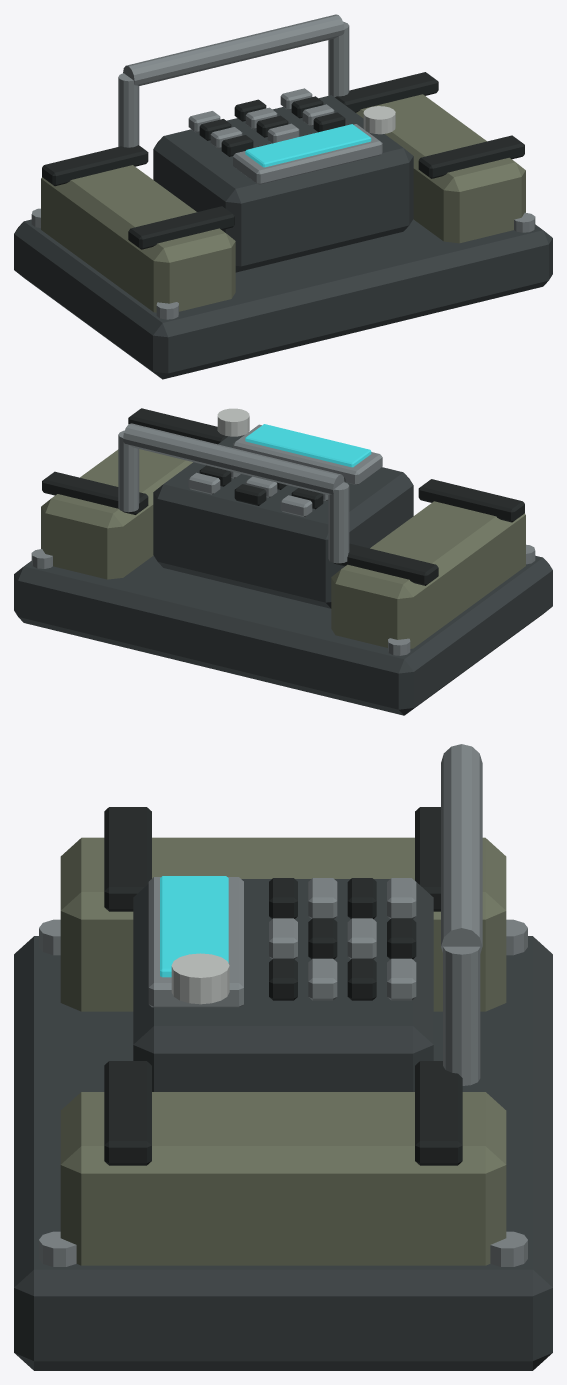
The model's file is c4_device.glb.
3 views of the same model, one above another, from view 1: azimuth 30°, elevation 25°; view 2: azimuth 150°, elevation 25°; view 3: azimuth 270°, elevation 25° (orthographic). The views are drawn at different scales.
Parts seen in each view (by area): view 1: GEO-c4-base-chassis, GEO-c4-control-deck, GEO-c4-charge-L, GEO-c4-charge-R, GEO-c4-handle-bar, GEO-c4-display-bezel, GEO-c4-display, GEO-c4-charge-strap-L-A, GEO-c4-charge-strap-R-A, GEO-c4-charge-strap-L-B, GEO-c4-charge-strap-R-B, GEO-c4-handle-post-L (+5 smaller); view 2: GEO-c4-base-chassis, GEO-c4-control-deck, GEO-c4-charge-L, GEO-c4-charge-R, GEO-c4-handle-bar, GEO-c4-display, GEO-c4-charge-strap-L-A, GEO-c4-charge-strap-L-B, GEO-c4-display-bezel, GEO-c4-charge-strap-R-B, GEO-c4-handle-post-L, GEO-c4-charge-strap-R-A (+5 smaller); view 3: GEO-c4-base-chassis, GEO-c4-charge-R, GEO-c4-control-deck, GEO-c4-charge-L, GEO-c4-handle-bar, GEO-c4-display, GEO-c4-handle-post-R, GEO-c4-charge-strap-R-A, GEO-c4-charge-strap-R-B, GEO-c4-charge-strap-L-A, GEO-c4-display-bezel, GEO-c4-status-lens (+15 smaller).
Boxes of the visible parts, x1,y1,x2,y2 form: GEO-c4-base-chassis: (14,219,552,379); GEO-c4-control-deck: (153,95,413,272); GEO-c4-charge-L: (41,165,235,312); GEO-c4-charge-R: (356,94,525,243); GEO-c4-handle-bar: (123,14,344,85); GEO-c4-display-bezel: (233,124,382,184); GEO-c4-display: (245,124,371,167); GEO-c4-charge-strap-L-A: (128,206,234,249); GEO-c4-charge-strap-R-A: (418,135,524,178); GEO-c4-charge-strap-L-B: (42,145,148,186); GEO-c4-charge-strap-R-B: (335,72,438,112); GEO-c4-handle-post-L: (118,73,139,147); GEO-c4-base-chassis: (14,555,552,715); GEO-c4-control-deck: (153,435,413,608); GEO-c4-charge-L: (331,501,525,648); GEO-c4-charge-R: (41,449,192,579); GEO-c4-handle-bar: (123,423,344,494); GEO-c4-display: (245,424,371,467); GEO-c4-charge-strap-L-A: (418,479,524,522); GEO-c4-charge-strap-L-B: (334,543,438,585); GEO-c4-display-bezel: (233,424,382,484); GEO-c4-charge-strap-R-B: (42,471,148,514); GEO-c4-handle-post-L: (328,482,349,563); GEO-c4-charge-strap-R-A: (128,408,228,444); GEO-c4-base-chassis: (14,936,552,1370); GEO-c4-charge-R: (60,1092,506,1265); GEO-c4-control-deck: (133,879,433,1091); GEO-c4-charge-L: (60,837,506,1011); GEO-c4-handle-bar: (441,744,482,953); GEO-c4-display: (160,876,228,977); GEO-c4-handle-post-R: (443,946,480,1085); GEO-c4-charge-strap-R-A: (104,1061,151,1165); GEO-c4-charge-strap-R-B: (415,1061,462,1165); GEO-c4-charge-strap-L-A: (104,807,151,911); GEO-c4-display-bezel: (148,877,243,1007); GEO-c4-status-lens: (171,953,229,1004).
Size of the model in its own units: 0.4 by 0.196 by 0.26.
